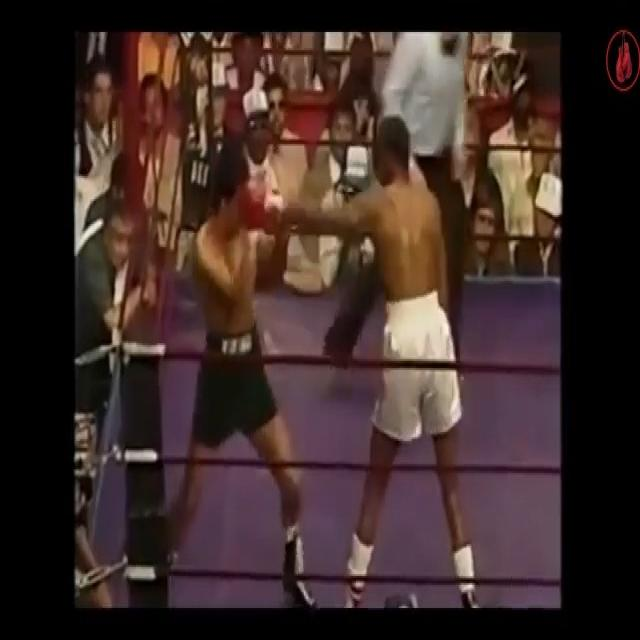Jab: (219, 165, 429, 344)
